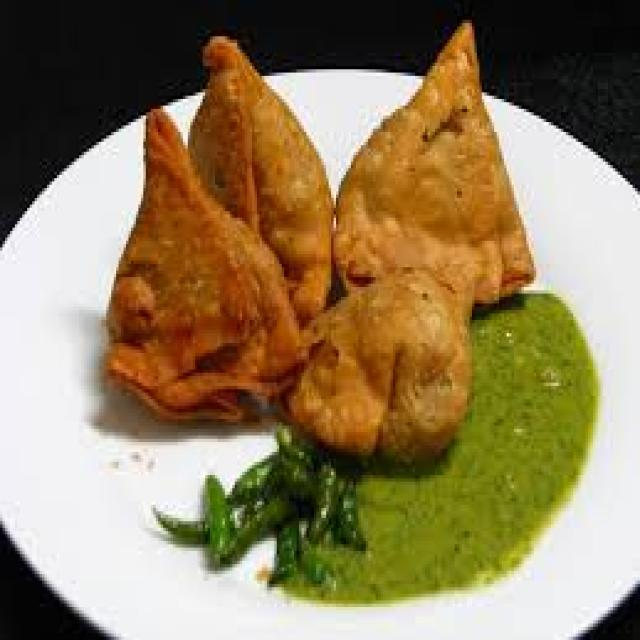SAMOSA: (107, 103, 310, 429), (334, 21, 540, 303), (190, 39, 335, 330), (297, 288, 475, 459)
